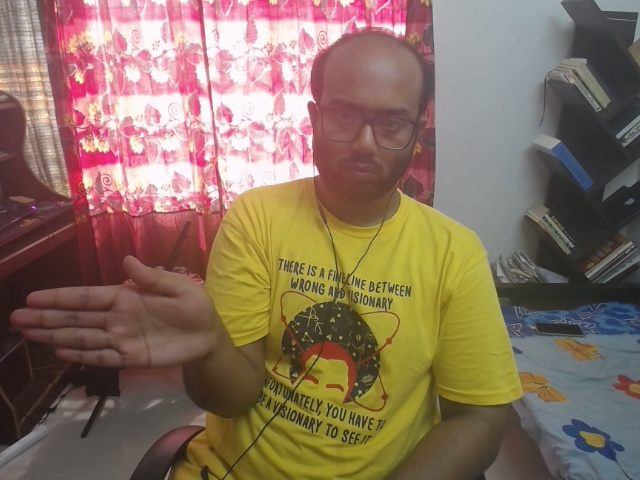south: (2, 233, 253, 389)
